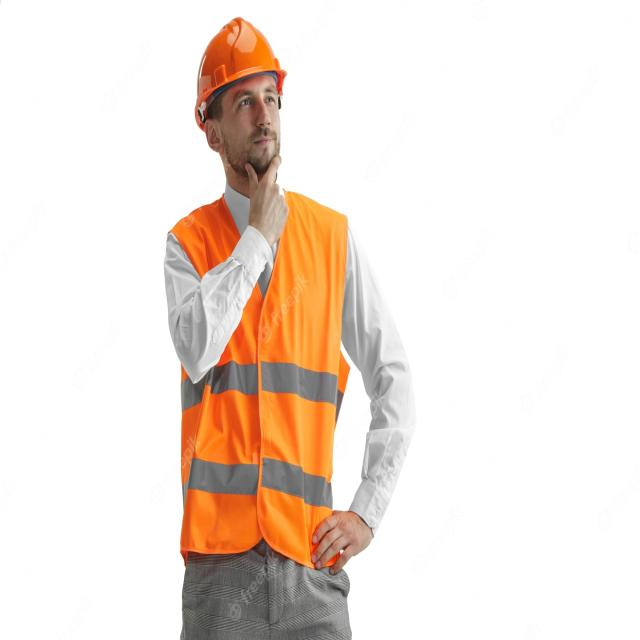helmet: (195, 15, 286, 111)
no-goggles: (208, 82, 294, 127)
vest: (165, 193, 352, 561)
